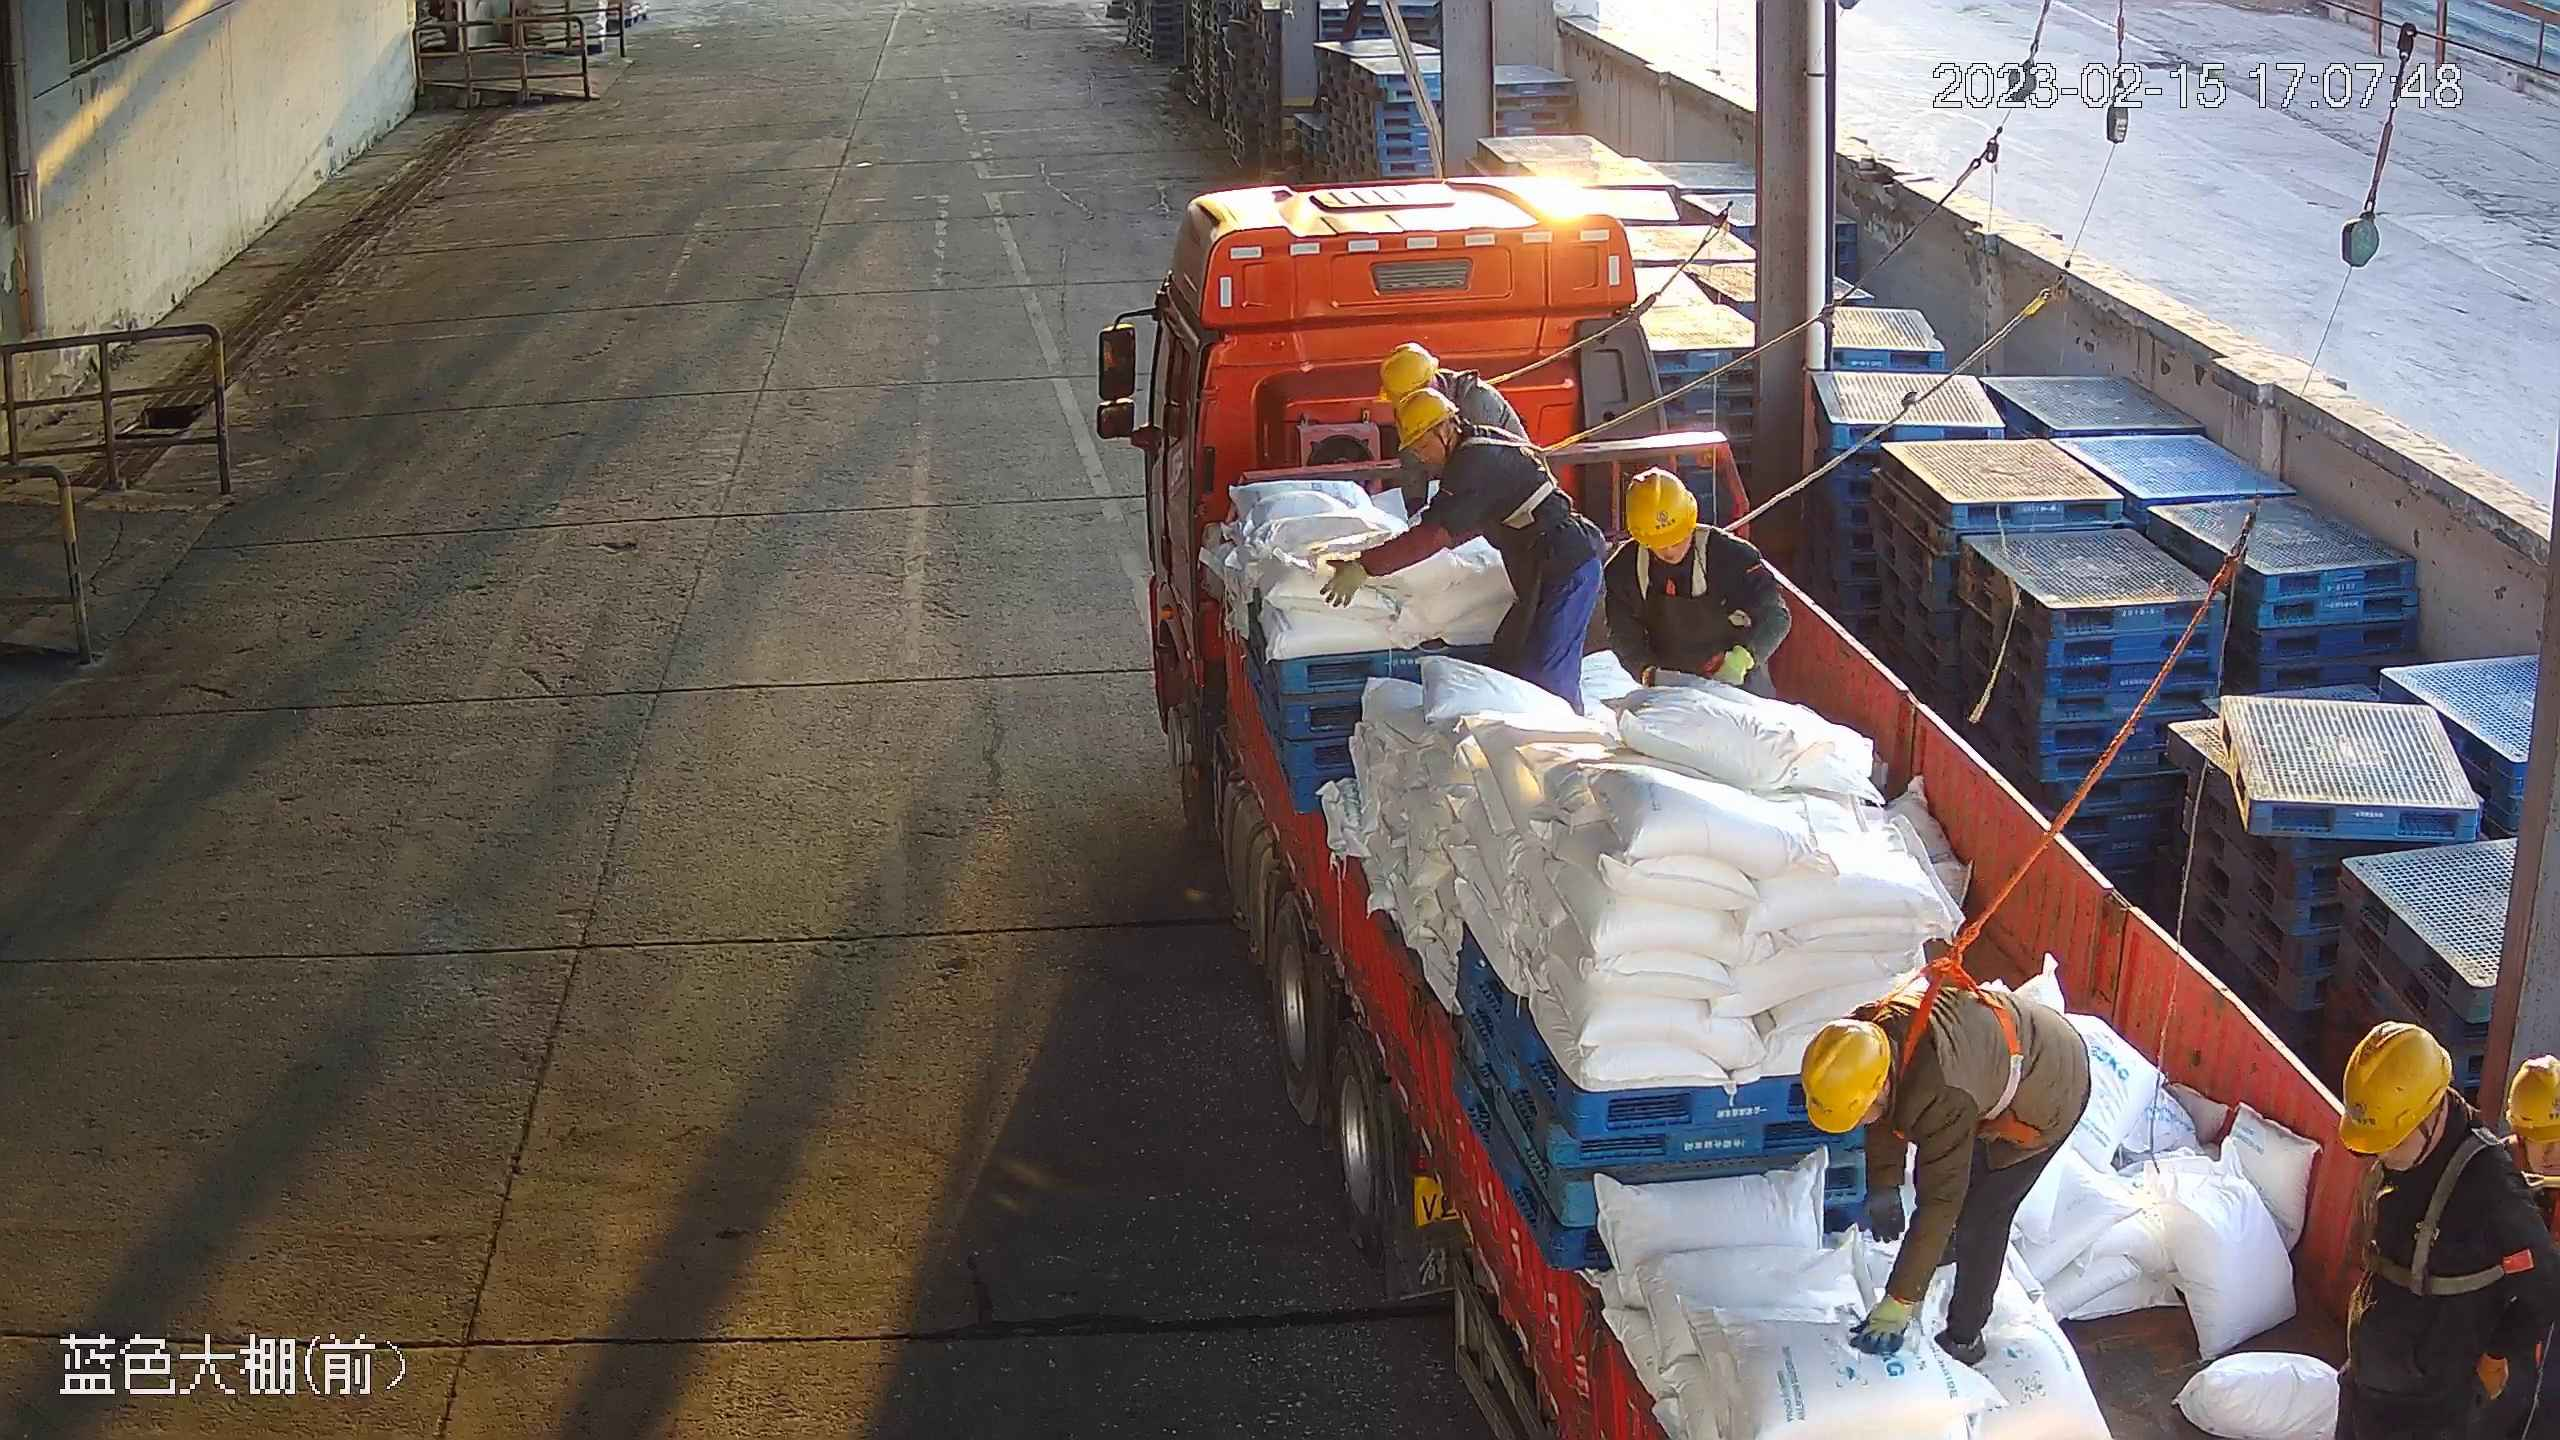belt: (1879, 944, 2028, 1115), (2360, 1158, 2501, 1309), (1477, 427, 1588, 522), (1623, 560, 1725, 609)
head: (2334, 1022, 2504, 1209), (1807, 985, 1946, 1146), (1613, 469, 1735, 604), (1395, 399, 1509, 495)
helmet: (2323, 1020, 2456, 1150), (1807, 1016, 1883, 1134), (1627, 472, 1693, 551), (1386, 390, 1455, 450), (1377, 337, 1442, 399)
people: (1793, 972, 2095, 1355), (1316, 393, 1607, 706), (2330, 1025, 2549, 1440)
truck: (1081, 179, 2560, 1440)
